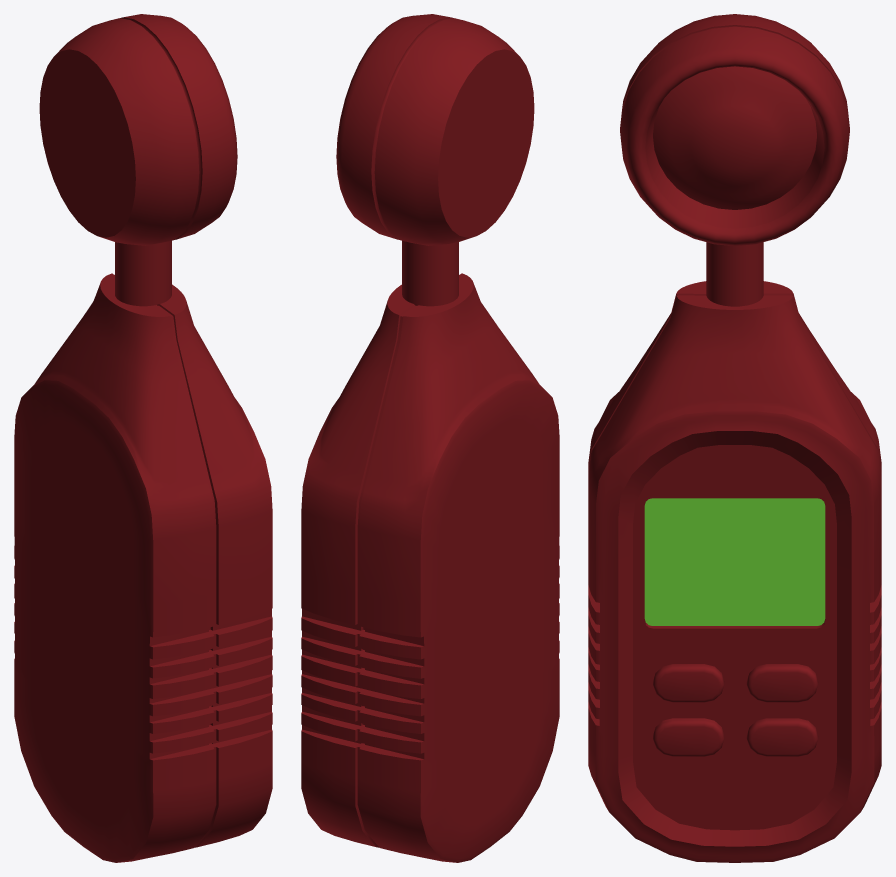
File: Люксометр с одним материалом.fbx
The picture shows the model from 3 angles, left to right: view 1: azimuth 30°, elevation 25°; view 2: azimuth 150°, elevation 25°; view 3: azimuth 270°, elevation 25°; orthographic projection.
Parts seen in each view (by area): view 1: Корпус люксометра.002, Датчик.002; view 2: Корпус люксометра.002, Датчик.002; view 3: Корпус люксометра.002, Датчик.002, 4 Кнопка hold.002, 2 Кнопка lux fc.002, 3 Кнопка max min.002, 1 Кнопка Включение.002.
Part boxes in pixels (x1,y1,x2,y2): Корпус люксометра.002: (14,240,272,862); Датчик.002: (39,14,237,245); Корпус люксометра.002: (301,240,559,862); Датчик.002: (336,14,534,245); Корпус люксометра.002: (588,242,881,862); Датчик.002: (620,14,849,245); 4 Кнопка hold.002: (746,718,818,756); 2 Кнопка lux fc.002: (746,664,818,702); 3 Кнопка max min.002: (653,718,724,756); 1 Кнопка Включение.002: (653,664,724,702).
Bounding box in the file's own units: 0.0249 × 0.1525 × 0.0501.
